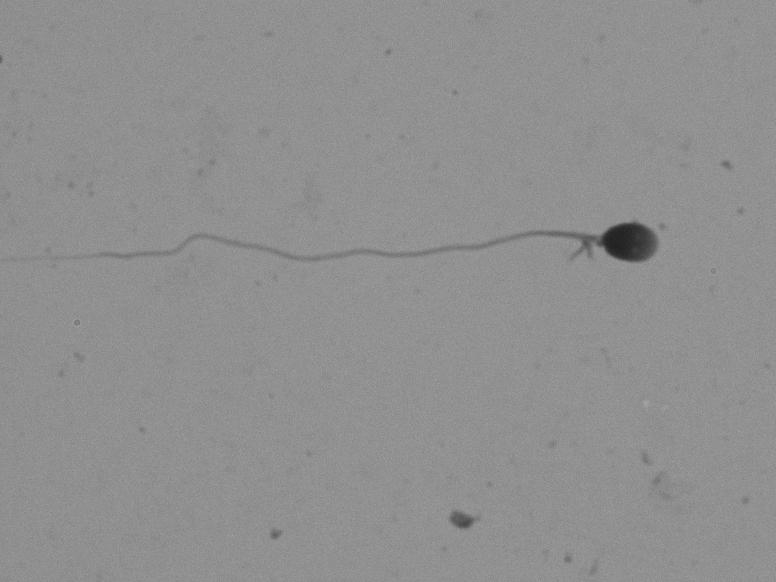Normal: (2, 148, 700, 347)
